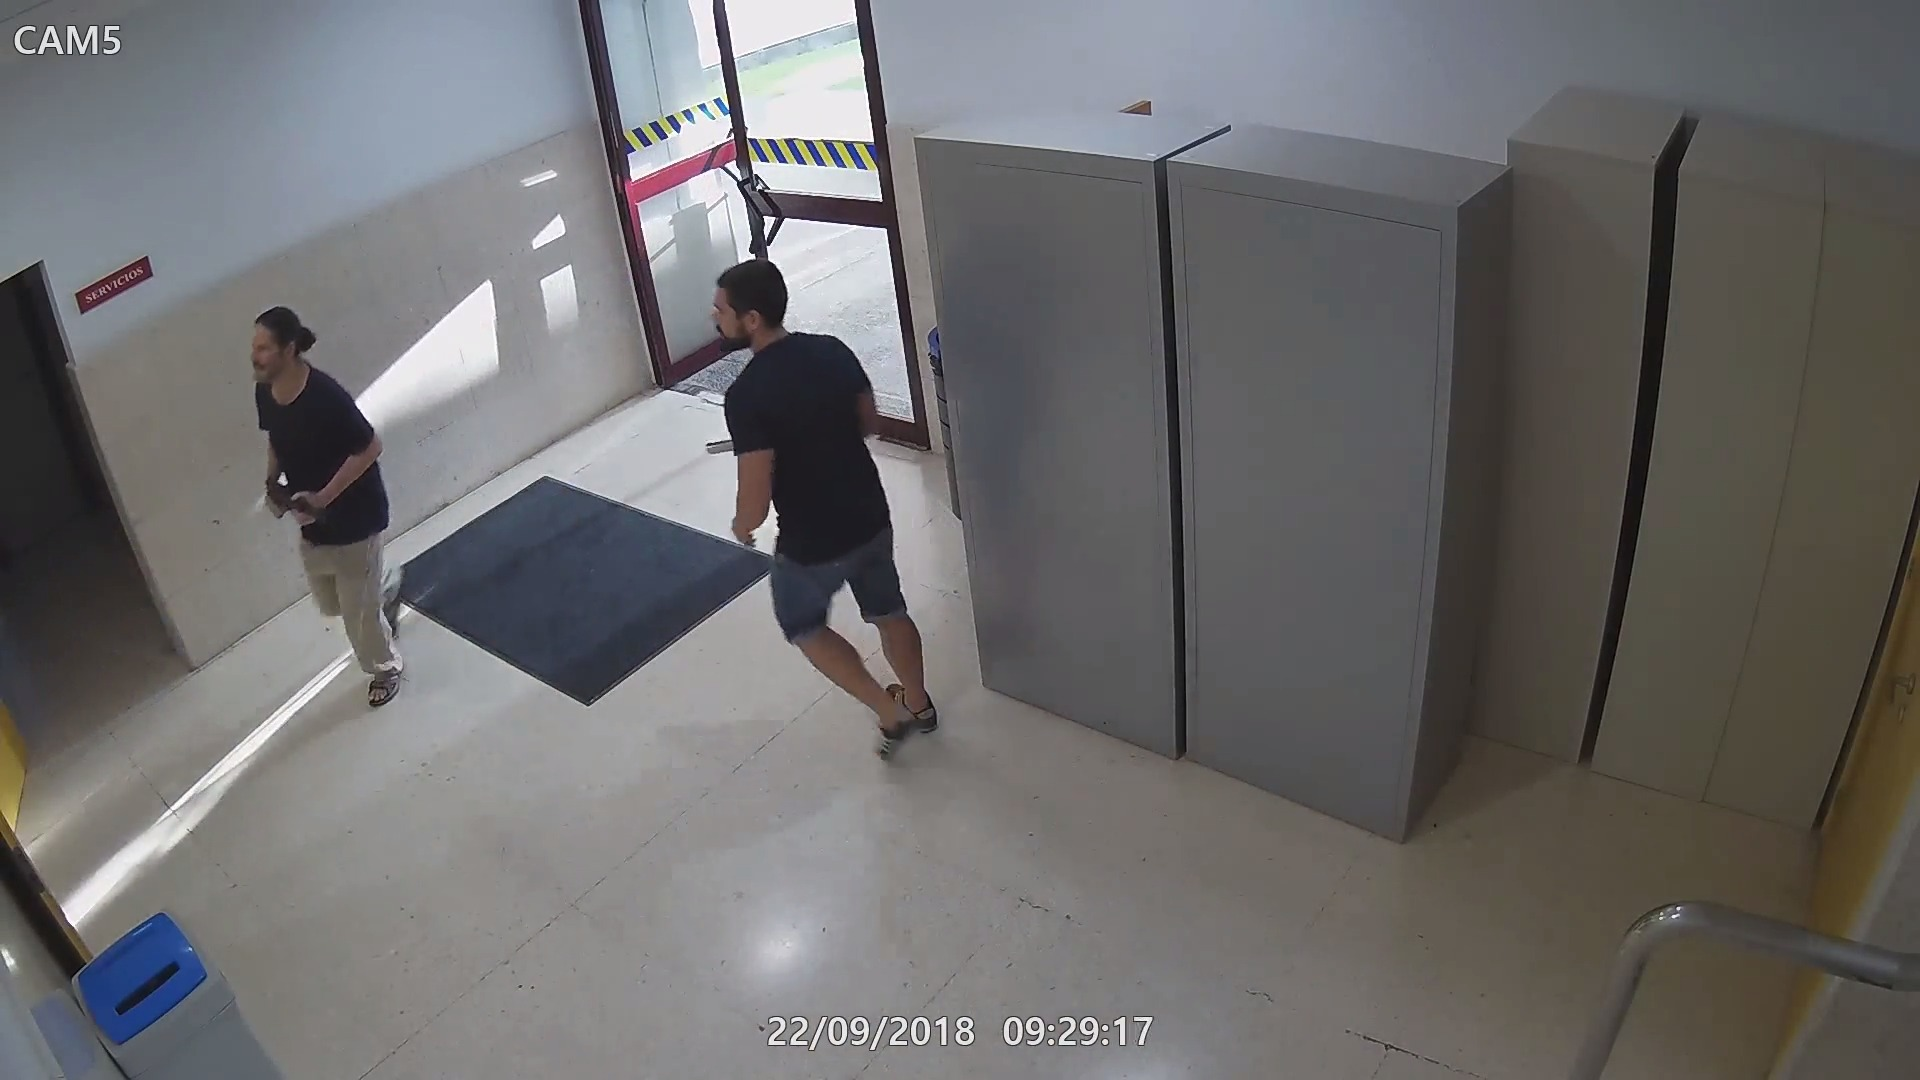Short_rifle: (255, 467, 345, 538)
